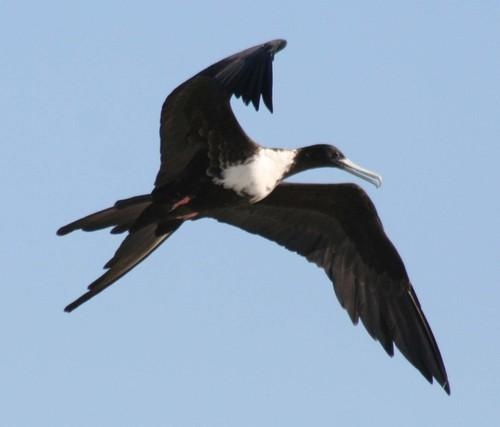bird: (53, 38, 453, 394)
